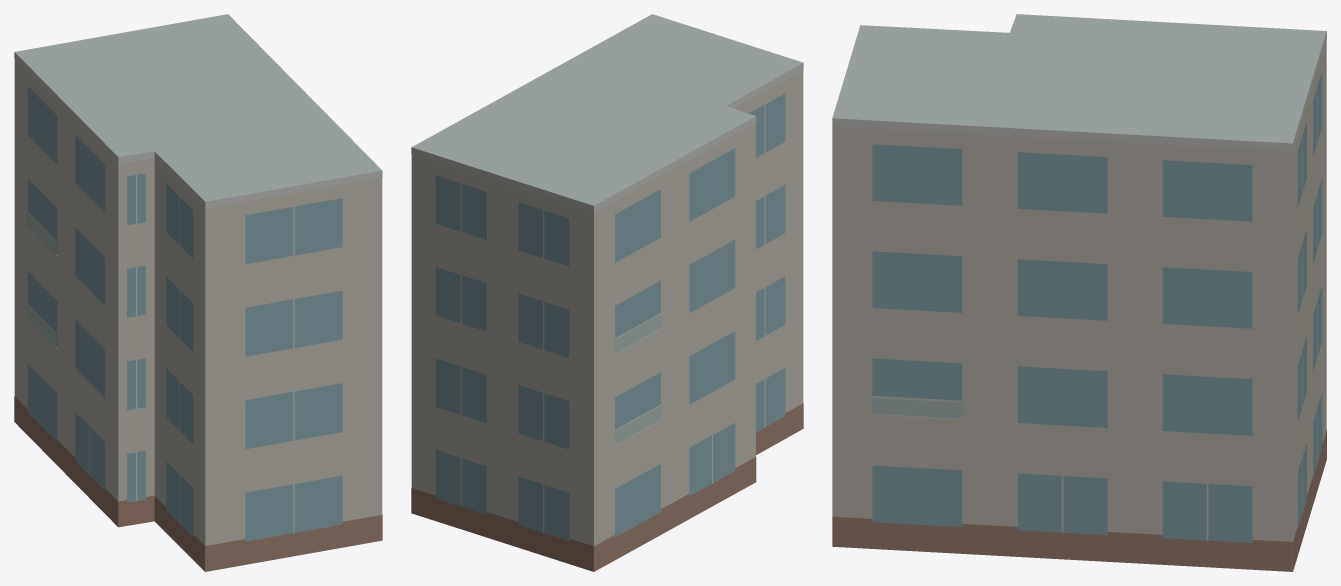
File: survey-upis-33027428.glb
3 views of the same model, side by side, from view 1: azimuth 30°, elevation 25°; view 2: azimuth 150°, elevation 25°; view 3: azimuth 270°, elevation 25° (orthographic). The views are drawn at different scales.
Visible parts, largest first — view 1: survey-upis-33027428.tmp; view 2: survey-upis-33027428.tmp; view 3: survey-upis-33027428.tmp.
Part boxes in pixels (bbox=[...]): survey-upis-33027428.tmp: bbox=[14, 14, 382, 571]; survey-upis-33027428.tmp: bbox=[411, 14, 803, 571]; survey-upis-33027428.tmp: bbox=[832, 14, 1326, 571].
Bounding box in the file's own units: 8.4 × 12.95 × 13.56.
